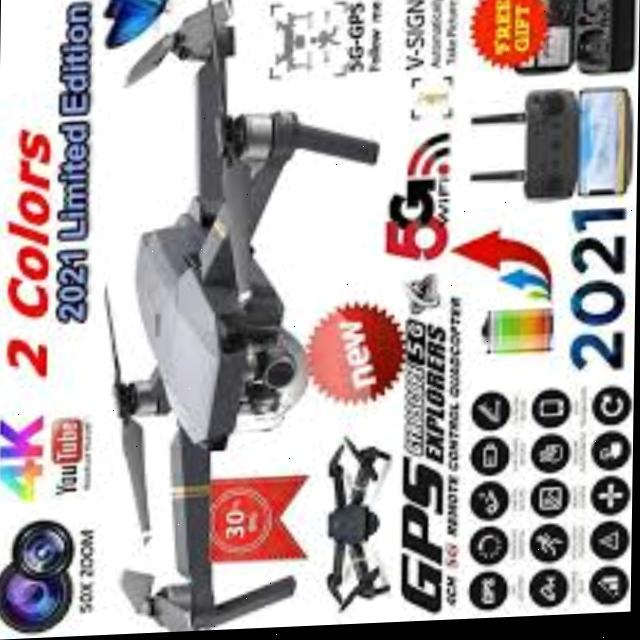drone: (81, 0, 383, 637), (308, 431, 408, 617)
